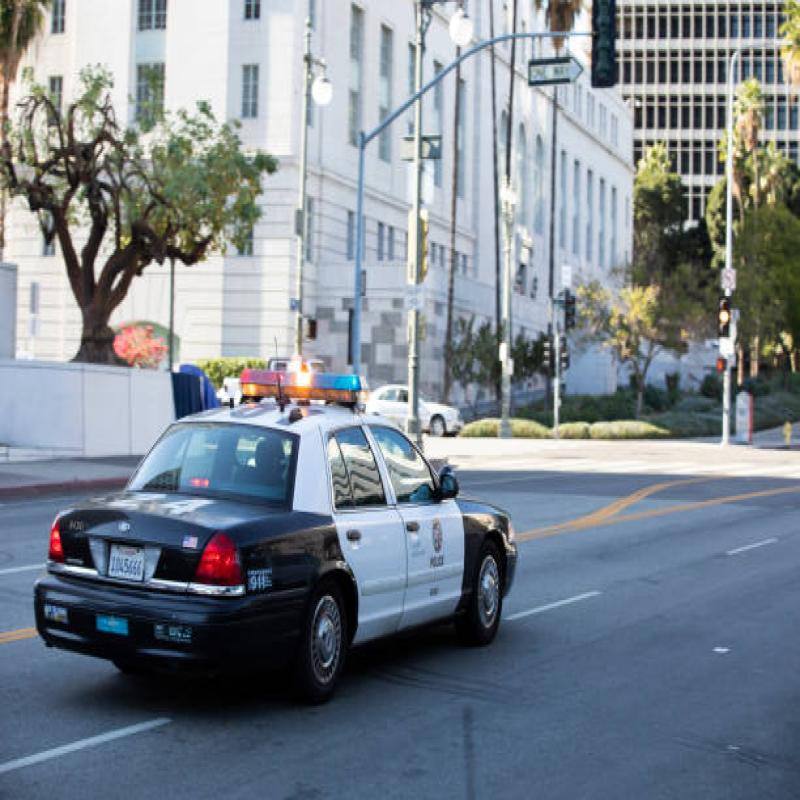AmbulanceSiren: (234, 351, 362, 410)
